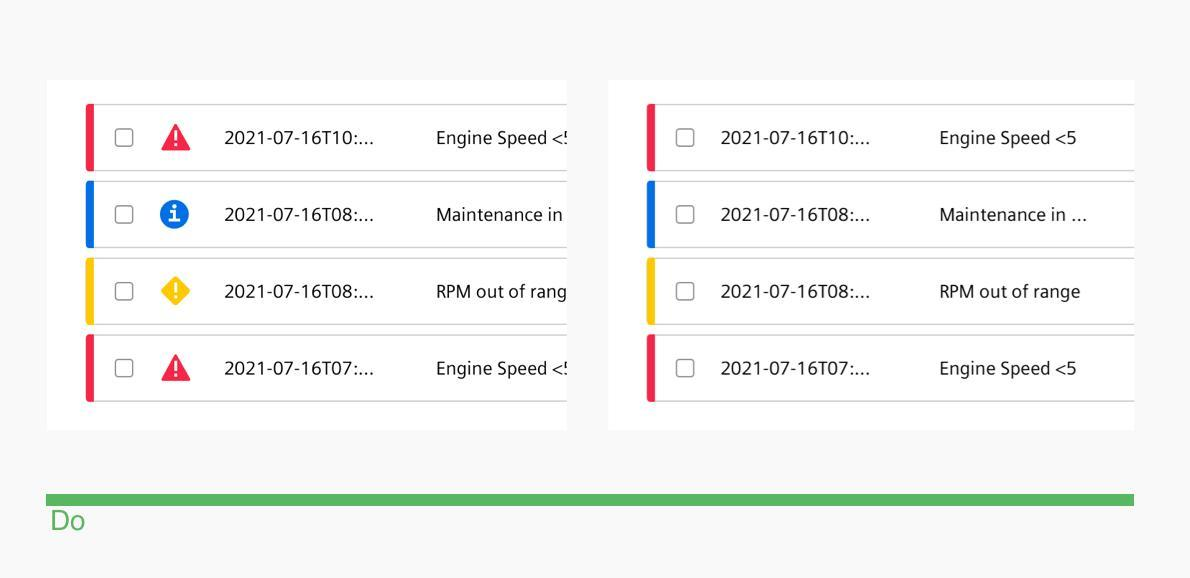checkbox: (116, 358, 135, 378), (676, 359, 696, 378), (116, 282, 134, 303), (676, 129, 695, 148), (115, 128, 133, 148), (676, 206, 694, 225), (115, 207, 134, 224), (676, 284, 695, 301)
icon: (160, 123, 192, 155), (159, 199, 192, 230), (159, 276, 191, 305)
label: (934, 204, 1096, 233), (937, 126, 1086, 151), (939, 280, 1088, 304), (429, 357, 570, 382), (434, 202, 568, 226), (940, 358, 1086, 380), (429, 283, 568, 305), (432, 129, 567, 146)
